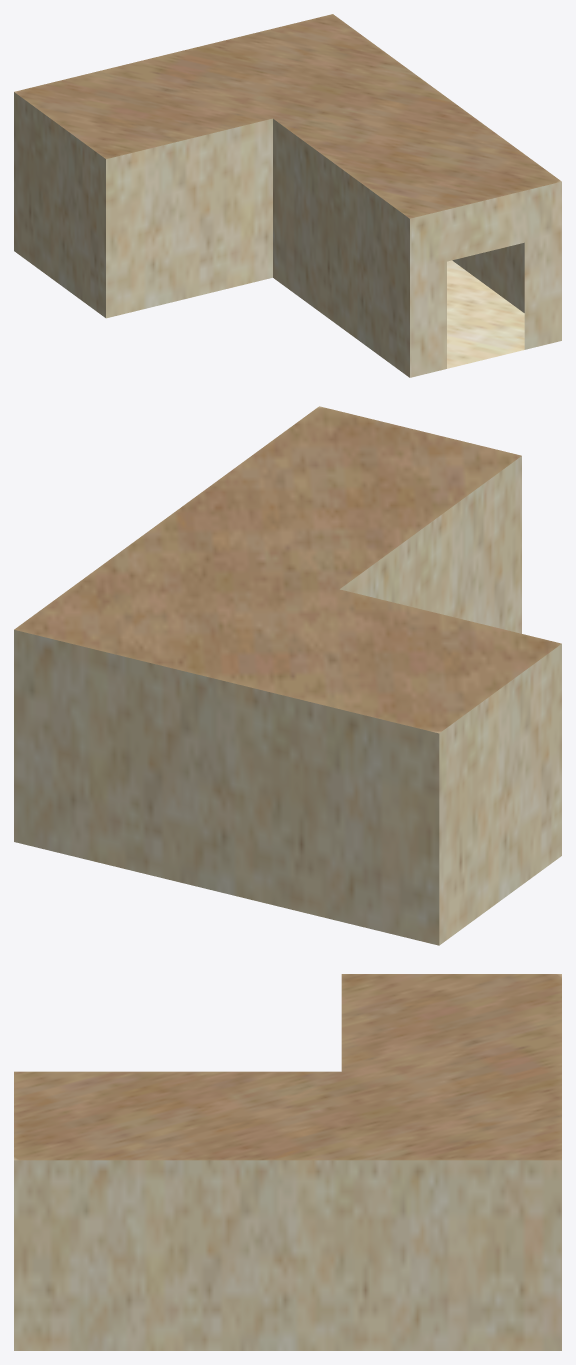
Rendered from thm_tato_imprv_building_s07_r1_foyer_mesh_l1.fbx.
3 renders of one model, top to bottom at view 1: azimuth 30°, elevation 25°; view 2: azimuth 150°, elevation 25°; view 3: azimuth 270°, elevation 25°, orthographic. The views are drawn at different scales.
Parts seen in each view (by area): view 1: mesh_node; view 2: mesh_node; view 3: mesh_node.
Boxes of the visible parts, left/top/right/bottom form: mesh_node: left=14, top=14, right=561, bottom=377; mesh_node: left=14, top=406, right=561, bottom=945; mesh_node: left=14, top=974, right=561, bottom=1350.
Size of the model in its own units: 8.39 by 4 by 10.43.
Materials: 1 (1 with a texture image).
